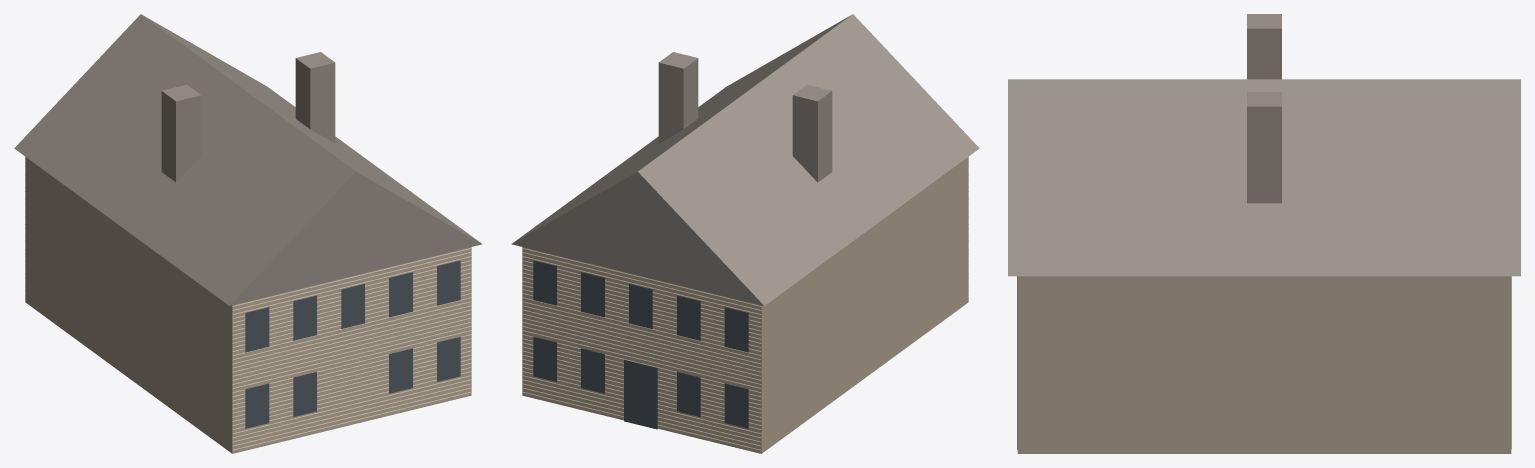
The model's file is recon_1835_north_h2_030__inferred_1835.glb.
3 views of the same model, side by side, from view 1: azimuth 30°, elevation 25°; view 2: azimuth 150°, elevation 25°; view 3: azimuth 270°, elevation 25° (orthographic). The views are drawn at different scales.
Visible parts, largest first — view 1: recon_1835_north_h2_030__inferred_1835; view 2: recon_1835_north_h2_030__inferred_1835; view 3: recon_1835_north_h2_030__inferred_1835.
Part boxes in pixels (x1,y1,x2,y2): recon_1835_north_h2_030__inferred_1835: [14, 14, 482, 453]; recon_1835_north_h2_030__inferred_1835: [511, 14, 979, 453]; recon_1835_north_h2_030__inferred_1835: [1008, 14, 1520, 453].
Size of the model in its own units: 9.03 by 9.28 by 13.3.
